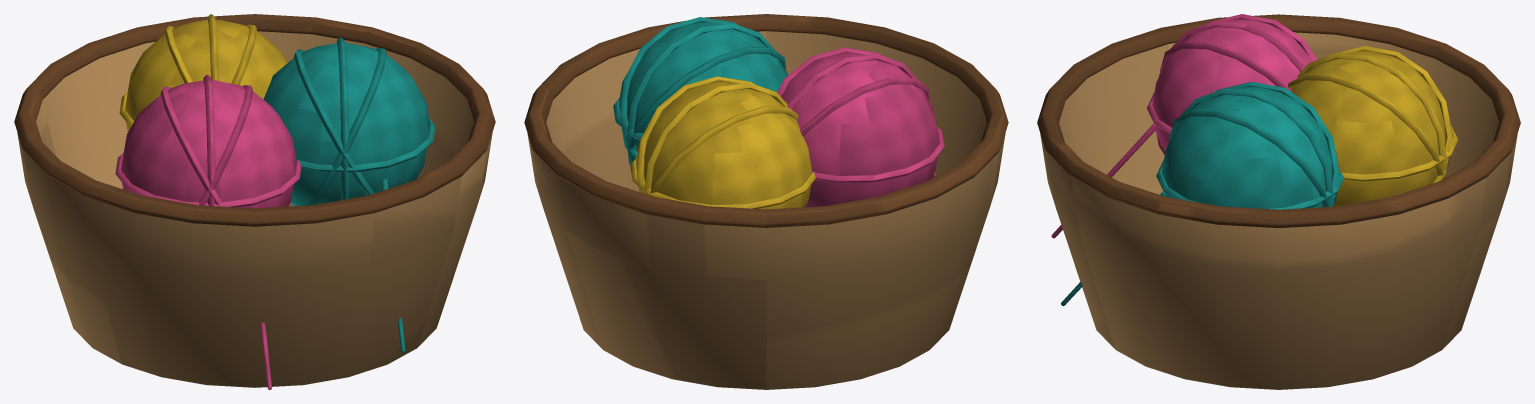
File: prop_yarn_ammo.glb
3 views of the same model, side by side, from view 1: azimuth 30°, elevation 25°; view 2: azimuth 150°, elevation 25°; view 3: azimuth 270°, elevation 25° (orthographic).
Parts seen in each view (by area): view 1: prop_yarn_ammo; view 2: prop_yarn_ammo; view 3: prop_yarn_ammo.
Boxes of the visible parts, <box> form: prop_yarn_ammo: <box>14,14,495,389</box>; prop_yarn_ammo: <box>524,14,1008,389</box>; prop_yarn_ammo: <box>1037,14,1520,389</box>.
Size of the model in its own units: 0.513 by 0.3 by 0.513.
Materials: 5 (5 with a texture image).
